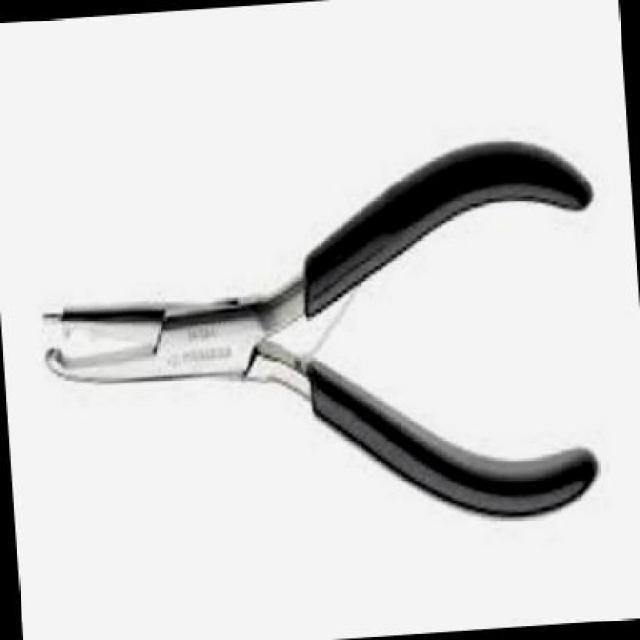pliers: (14, 102, 632, 580)
